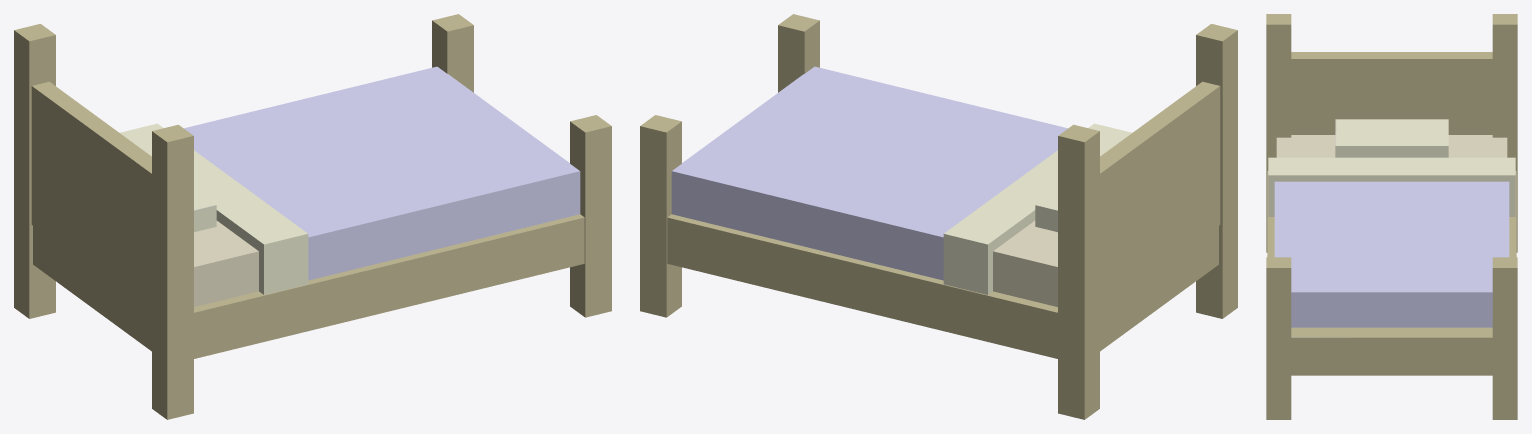
File: bed1_putple.glb
The picture shows the model from 3 angles, left to right: view 1: azimuth 30°, elevation 25°; view 2: azimuth 150°, elevation 25°; view 3: azimuth 270°, elevation 25°; orthographic projection. The views are drawn at different scales.
Parts seen in each view (by area): view 1: Object007; view 2: Object007; view 3: Object007.
Boxes of the visible parts, bbox=[...] form: Object007: bbox=[14, 14, 611, 419]; Object007: bbox=[640, 14, 1237, 419]; Object007: bbox=[1266, 14, 1517, 419].
Bounding box in the file's own units: 0.2011 × 0.12 × 0.12.
1 material, 1 textured.
